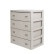plastic: (10, 9, 45, 49)
